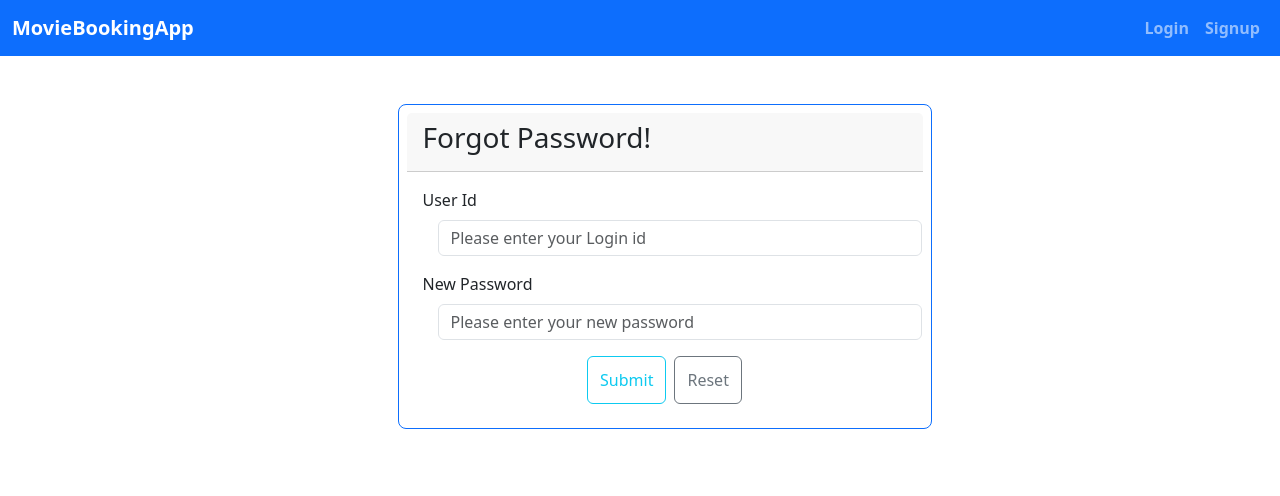
ForgotPassword Component › shows validation error for invalid loginId
This screenshot has width=1280, height=496.
Type "abc" into the field labelled "User Id" at [680, 238], box [438, 220, 922, 256]
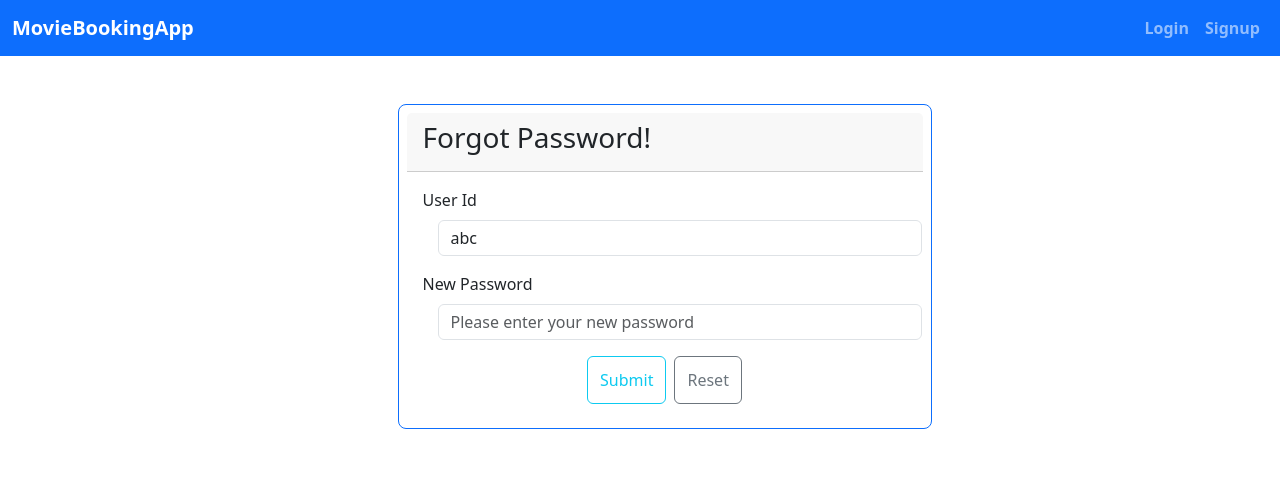
Click the button "Submit" at [627, 380], box [587, 356, 666, 404]
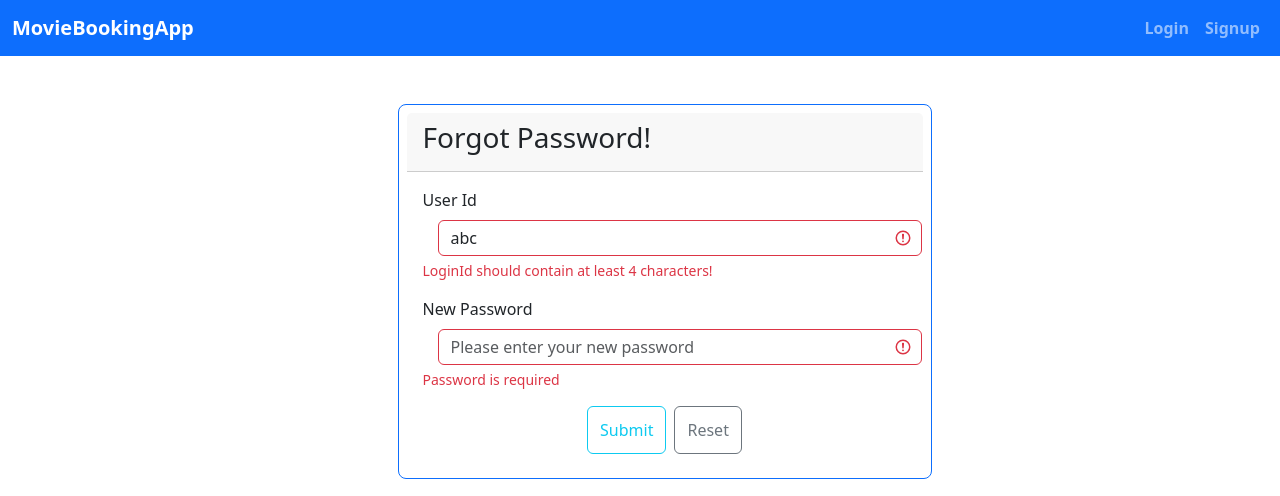
Now the text "LoginId should contain at least 4 characters!" is shown, box [422, 261, 713, 280]
